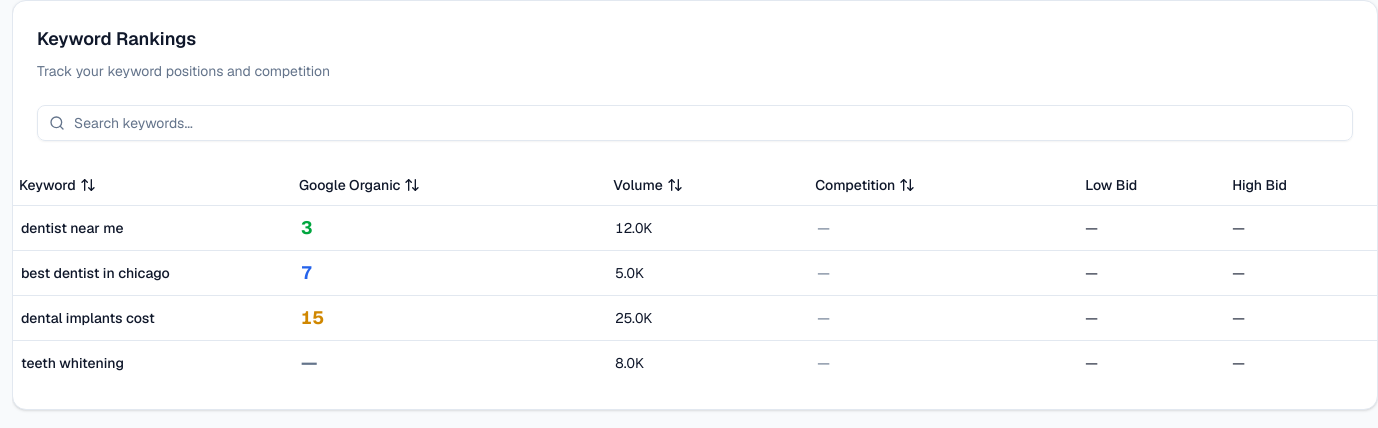
Test case: KeywordTable › empty state › shows different message when search yields no results
Type "nonexistent keyword" into the field with placeholder "Search keywords..." at (695, 123), box [37,105,1353,141]
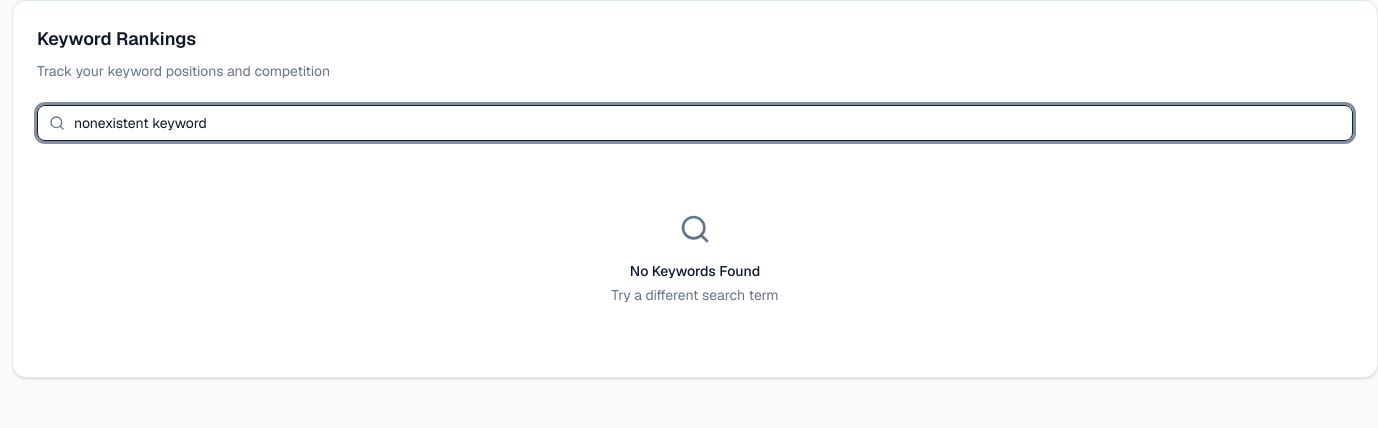
Result: the text "No Keywords Found" is shown at [630,261,760,281]
Result: the text "Try a different search term" is shown at [611,285,779,305]
